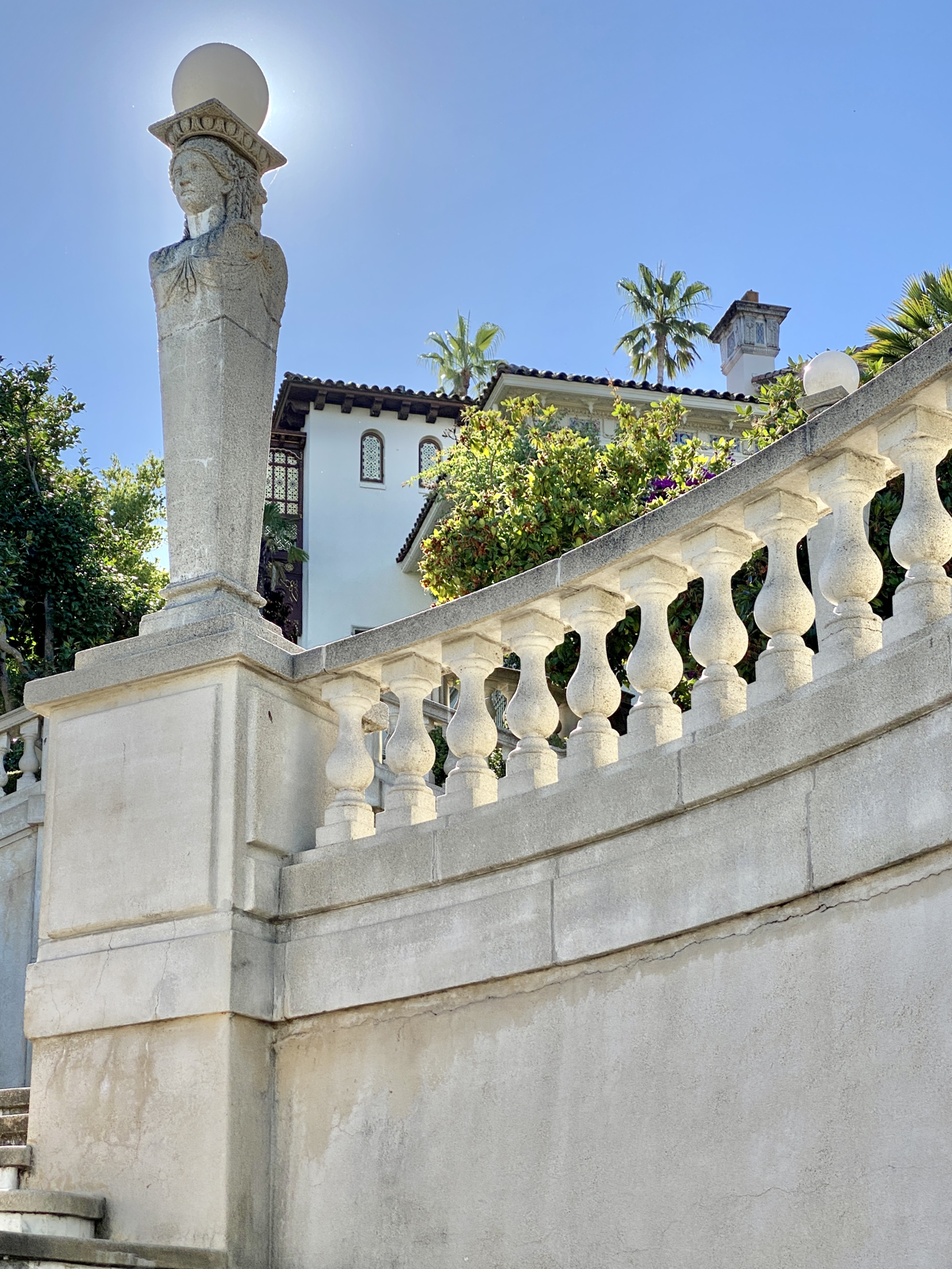fachada: (294, 365, 952, 1269)
poste: (127, 40, 305, 682)
